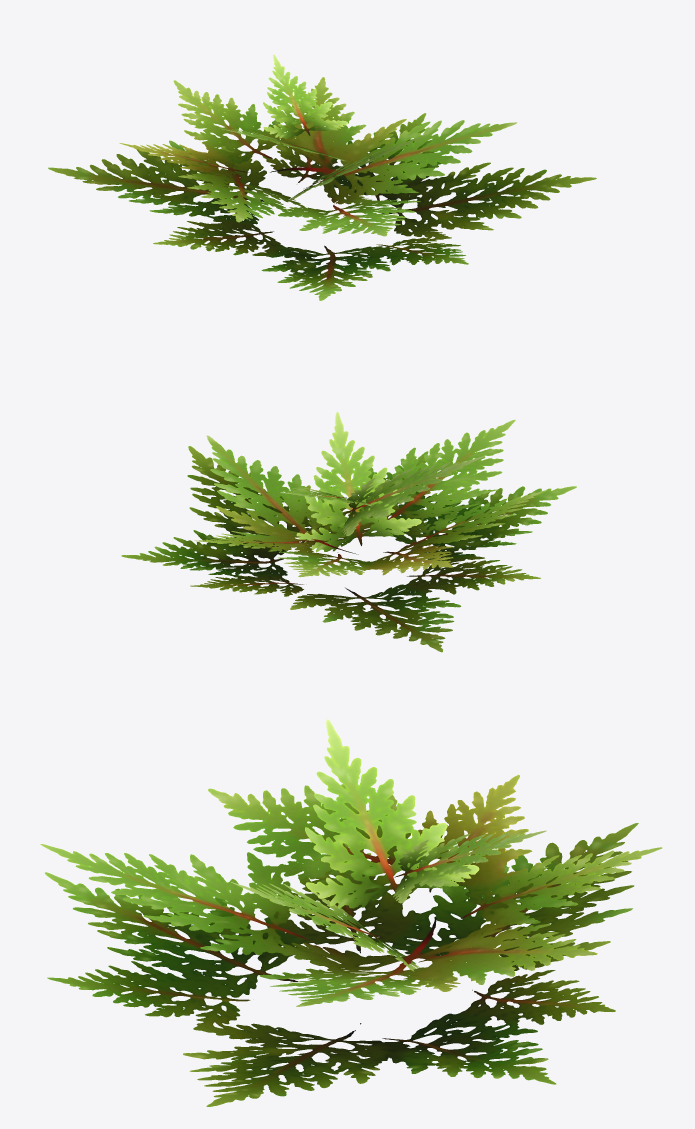
The model's file is Fern_big.fbx.
The picture shows the model from 3 angles, top to bottom: view 1: azimuth 30°, elevation 25°; view 2: azimuth 150°, elevation 25°; view 3: azimuth 270°, elevation 25°; orthographic projection. The views are drawn at different scales.
Parts seen in each view (by area): view 1: Fernbig; view 2: Fernbig; view 3: Fernbig.
Part boxes in pixels (box(x1,y1,x2,y2)): Fernbig: box(48, 54, 596, 300); Fernbig: box(121, 411, 576, 652); Fernbig: box(40, 719, 662, 1106).
Bounding box in the file's own units: 318 × 99.27 × 285.
